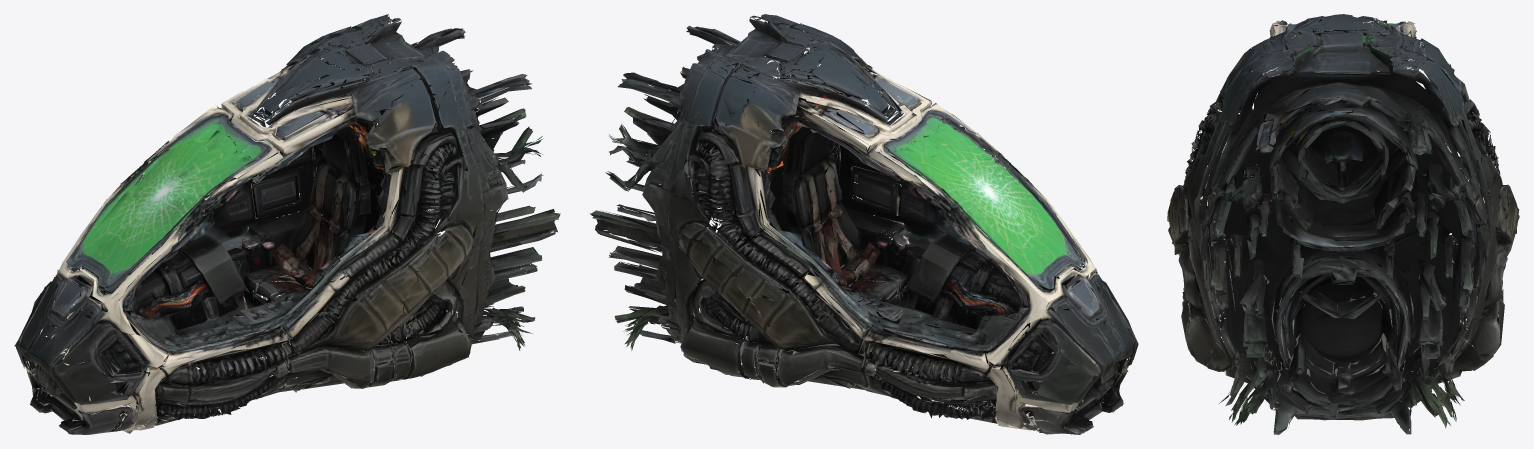
File: crash_cockpit_canopy.glb
3 renders of one model, left to right at view 1: azimuth 30°, elevation 25°; view 2: azimuth 150°, elevation 25°; view 3: azimuth 270°, elevation 25°, orthographic. The views are drawn at different scales.
Parts seen in each view (by area): view 1: node_0; view 2: node_0; view 3: node_0.
Boxes of the visible parts, box(x1,y1,x2,y2) form: node_0: box(14, 14, 560, 434); node_0: box(590, 14, 1138, 434); node_0: box(1167, 14, 1519, 434).
Size of the model in its own units: 1.08 by 0.6705 by 0.6122.
Materials: 1 (1 with a texture image).
